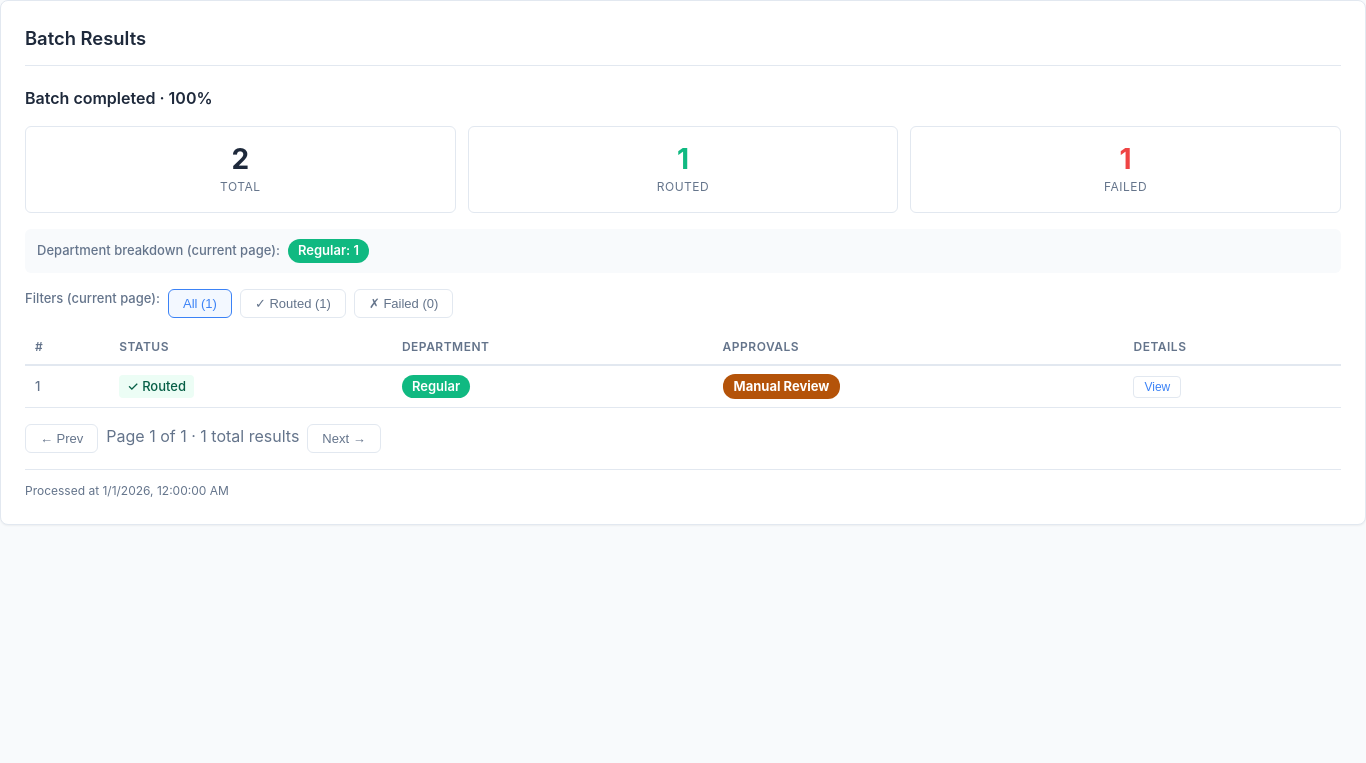
Test: BatchResults approvals (generic, data-driven) › Manual Review only shows no Insurance indicator
What coordinates should you click on to do the following:
click the button "View"
I would click on:
 (1157, 387)
Its box is x1=1134 y1=376 x2=1181 y2=398.
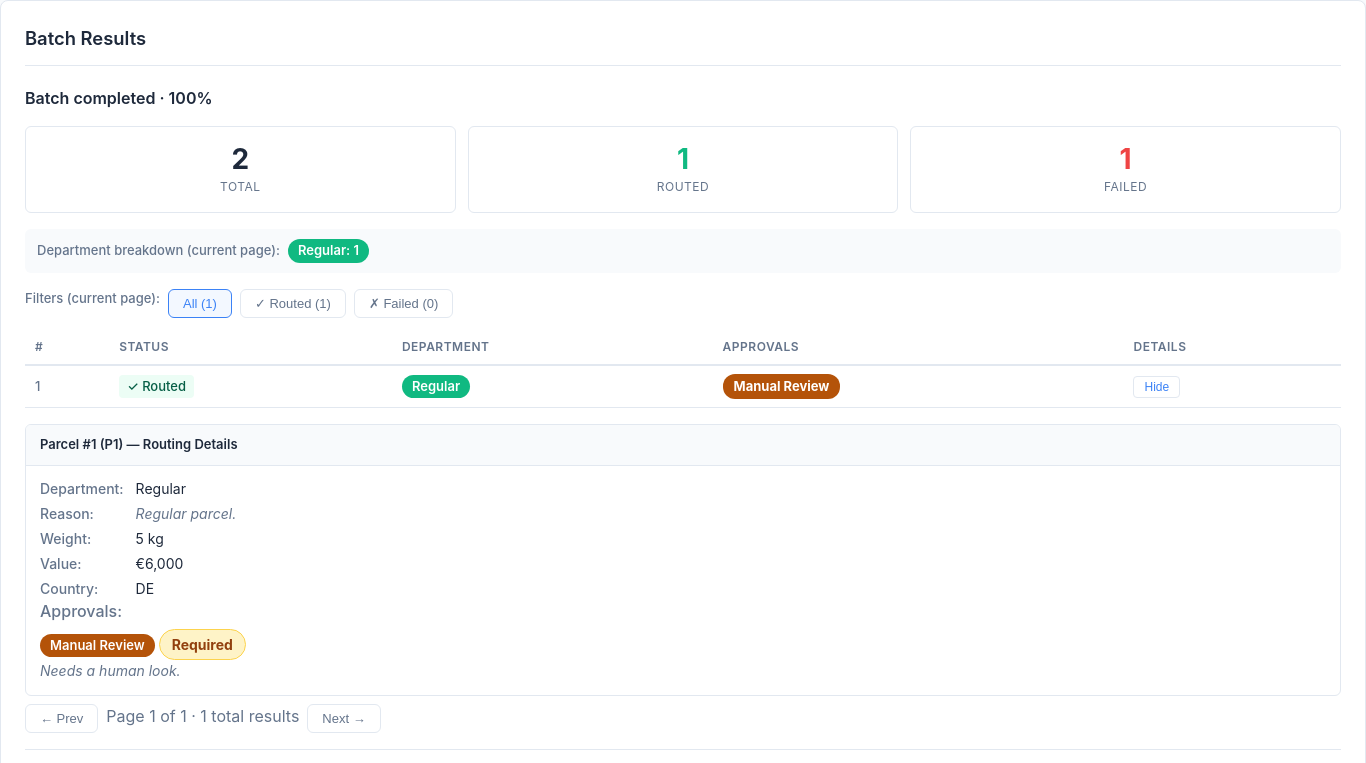
Check: the text "Manual Review" next to "Required" is shown, box x1=50 y1=637 x2=145 y2=653
Check: the text "Required" is shown once, box x1=159 y1=629 x2=246 y2=660
